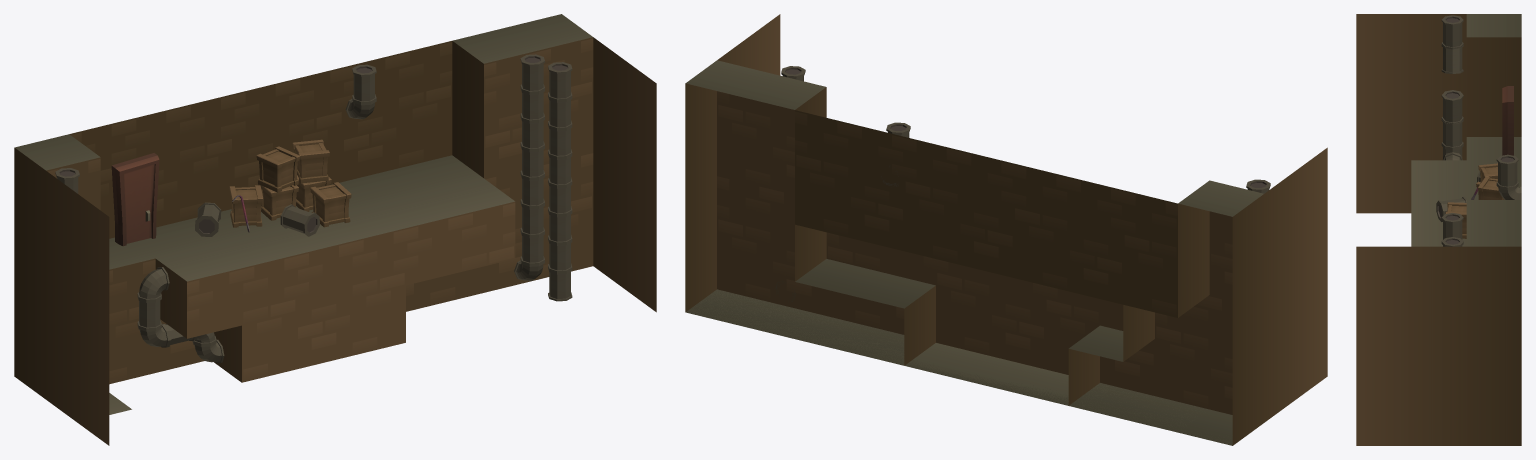
The model's file is Room27_8x20.fbx.
The picture shows the model from 3 angles, left to right: view 1: azimuth 30°, elevation 25°; view 2: azimuth 150°, elevation 25°; view 3: azimuth 270°, elevation 25°; orthographic projection. The views are drawn at different scales.
Visible parts, largest first — view 1: Room27_8x20; view 2: Room27_8x20; view 3: Room27_8x20.
Boxes of the visible parts, box(x1,y1,x2,y2) form: Room27_8x20: box(14, 14, 656, 445); Room27_8x20: box(685, 14, 1327, 445); Room27_8x20: box(1356, 14, 1521, 445).
Bounding box in the file's own units: 2000 × 600 × 850.
